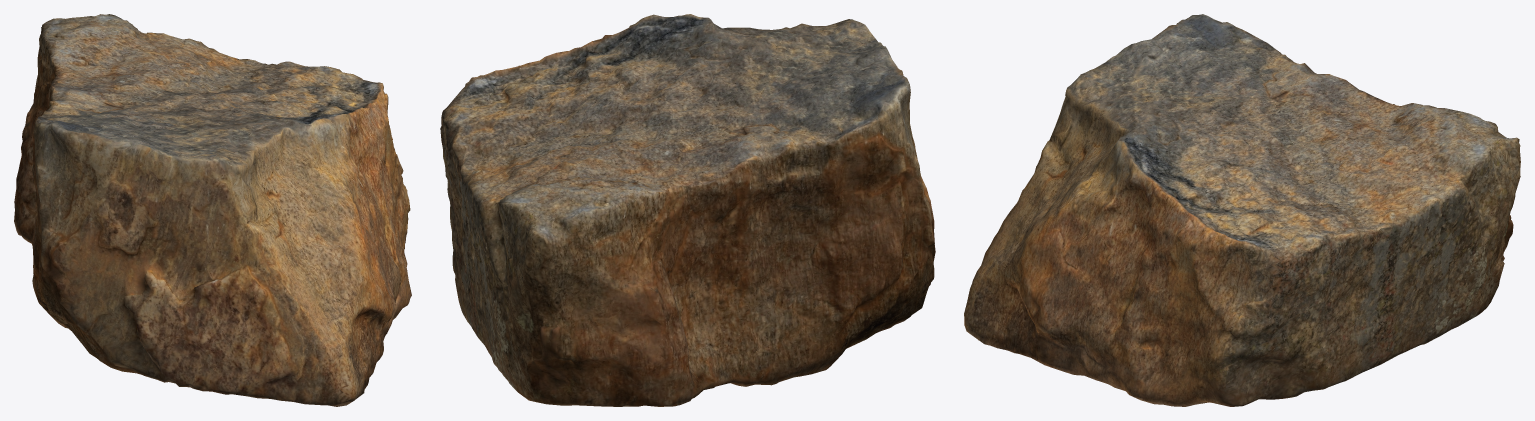
The model's file is boulder_03.gltf.
3 views of the same model, side by side, from view 1: azimuth 30°, elevation 25°; view 2: azimuth 150°, elevation 25°; view 3: azimuth 270°, elevation 25° (orthographic). The views are drawn at different scales.
Parts seen in each view (by area): view 1: boulder_03; view 2: boulder_03; view 3: boulder_03.
Part boxes in pixels (x1,y1,x2,y2): boulder_03: (14, 14, 411, 406); boulder_03: (440, 14, 935, 406); boulder_03: (964, 14, 1520, 406).
Size of the model in its own units: 2.4 by 1.47 by 3.06.
Materials: 1 (1 with a texture image).
